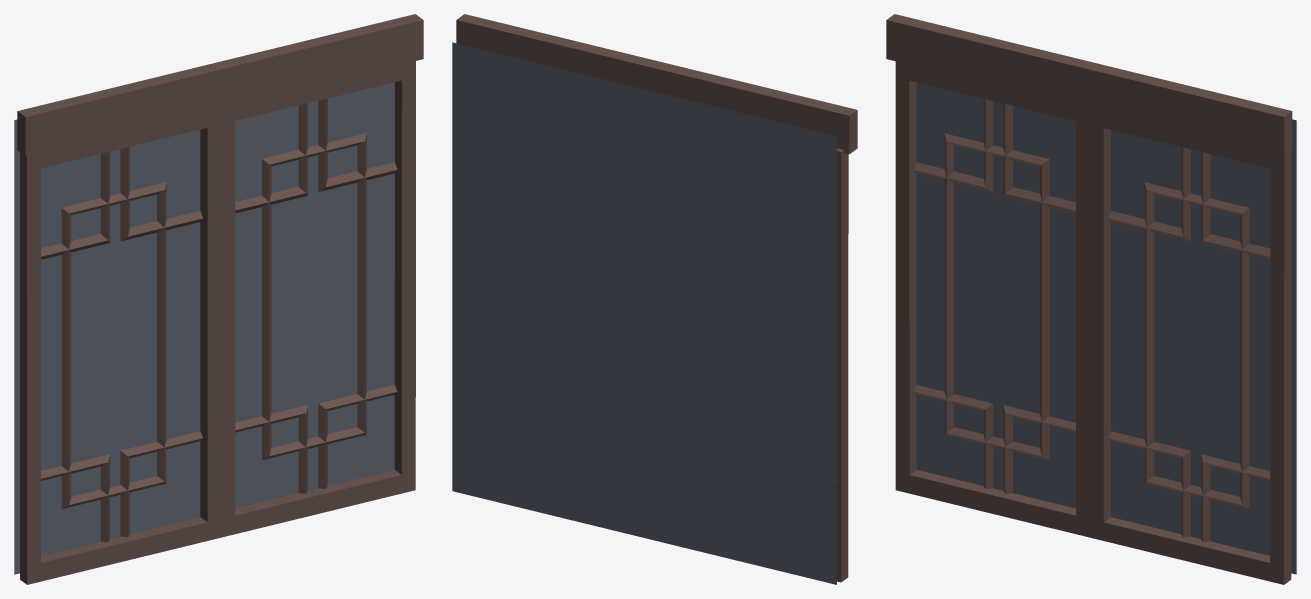
File: SM_Env_Window_16.fbx
The picture shows the model from 3 angles, left to right: view 1: azimuth 30°, elevation 25°; view 2: azimuth 150°, elevation 25°; view 3: azimuth 330°, elevation 25°; orthographic projection.
Parts seen in each view (by area): view 1: SM_Env_Window_16; view 2: SM_Env_Window_16; view 3: SM_Env_Window_16.
Boxes of the visible parts, left/top/right/bottom form: SM_Env_Window_16: left=14, top=14, right=423, bottom=584; SM_Env_Window_16: left=452, top=14, right=857, bottom=584; SM_Env_Window_16: left=886, top=14, right=1296, bottom=584.
Bounding box in the file's own units: 83.19 × 94.26 × 5.84.
Materials: 1 (1 with a texture image).
